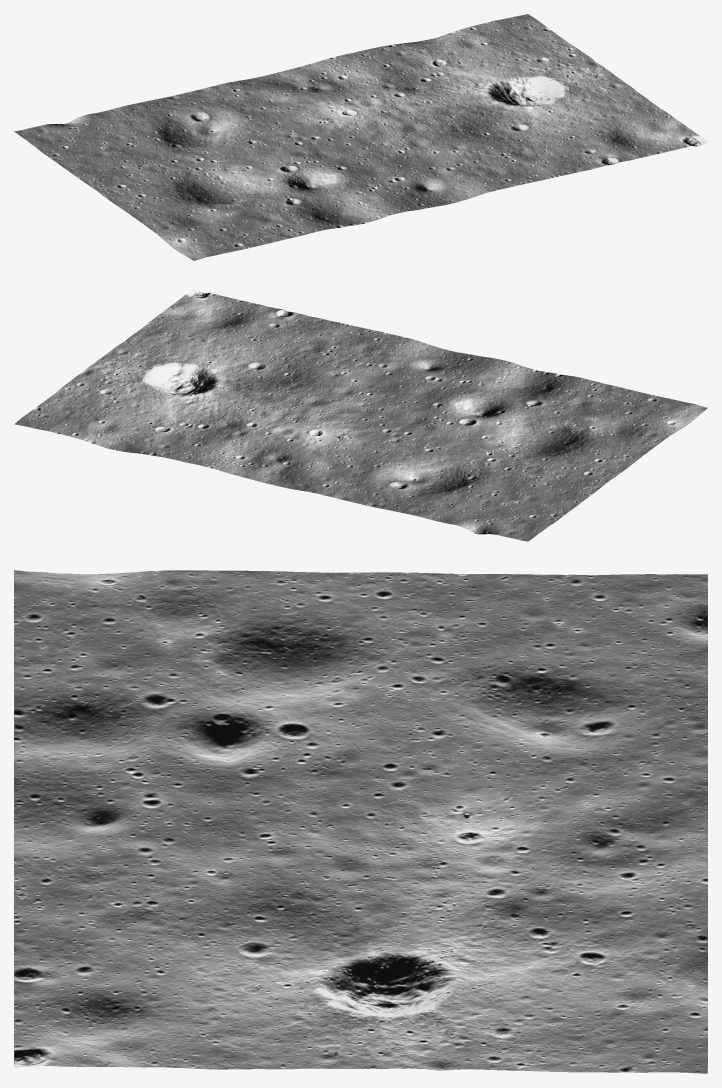
Rendered from apollo_11_lunar_landing_site.glb.
3 renders of one model, top to bottom at view 1: azimuth 30°, elevation 25°; view 2: azimuth 150°, elevation 25°; view 3: azimuth 270°, elevation 25°, orthographic. The views are drawn at different scales.
Visible parts, largest first — view 1: NAC_DTM_APOLLO11_1; view 2: NAC_DTM_APOLLO11_1; view 3: NAC_DTM_APOLLO11_1.
Boxes of the visible parts, bbox=[...] form: NAC_DTM_APOLLO11_1: bbox=[14, 14, 707, 260]; NAC_DTM_APOLLO11_1: bbox=[14, 289, 707, 541]; NAC_DTM_APOLLO11_1: bbox=[14, 570, 707, 1073].
Bounding box in the file's own units: 100 × 2.96 × 60.6.
Materials: 1 (1 with a texture image).
